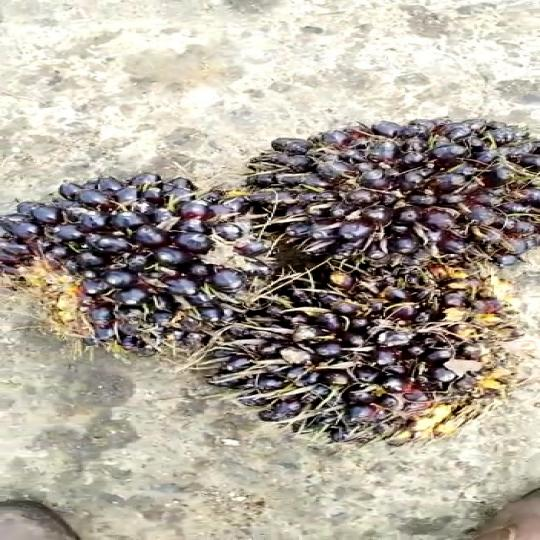mentah: (181, 257, 500, 461), (222, 108, 540, 284), (0, 159, 237, 376)
